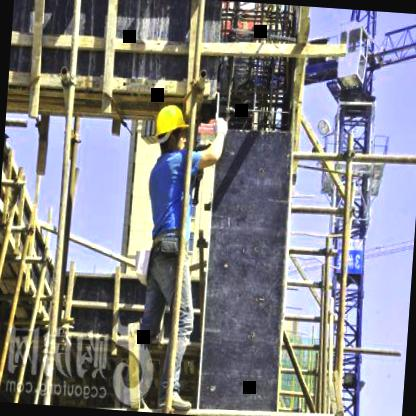helmet: (150, 100, 188, 156)
